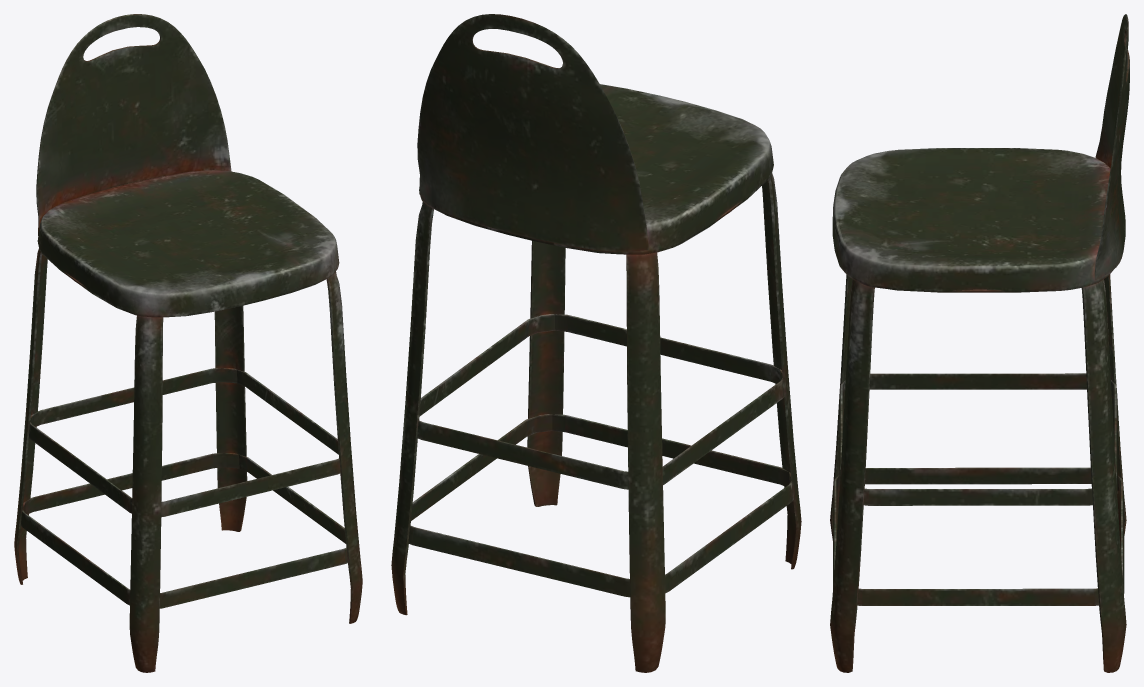
File: bar_stool.glb
3 views of the same model, side by side, from view 1: azimuth 30°, elevation 25°; view 2: azimuth 150°, elevation 25°; view 3: azimuth 270°, elevation 25° (orthographic). The views are drawn at different scales.
Visible parts, largest first — view 1: metal_stool_03; view 2: metal_stool_03; view 3: metal_stool_03.
Part boxes in pixels (bbox=[...]): metal_stool_03: bbox=[14, 14, 362, 672]; metal_stool_03: bbox=[391, 14, 801, 672]; metal_stool_03: bbox=[830, 14, 1129, 672].
Size of the model in its own units: 0.4606 by 1.02 by 0.4706.
1 material, 1 textured.
